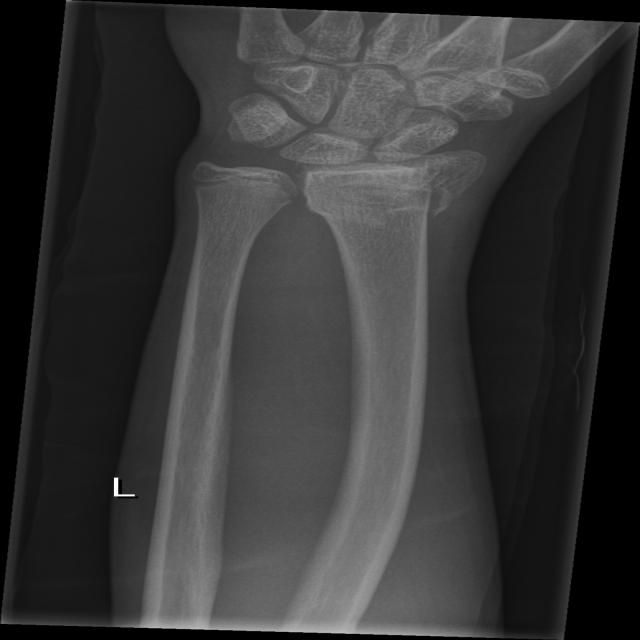radius fracture: (328, 170, 490, 262)
